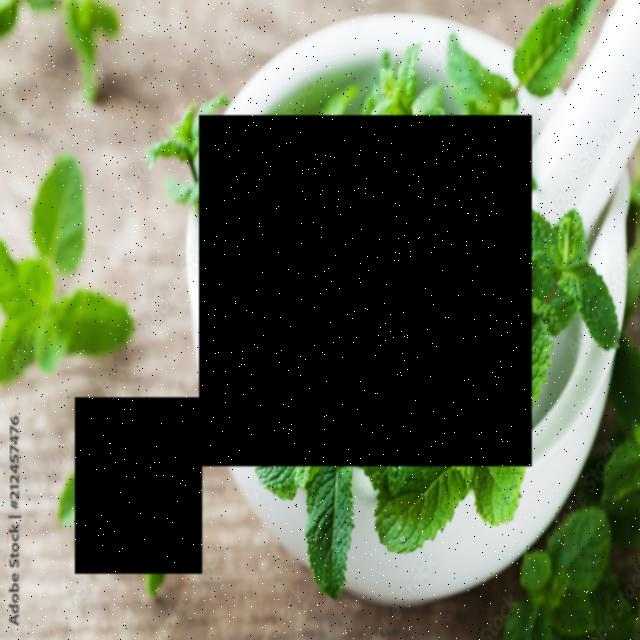Green_Mint: (200, 116, 532, 467), (75, 398, 202, 575)
